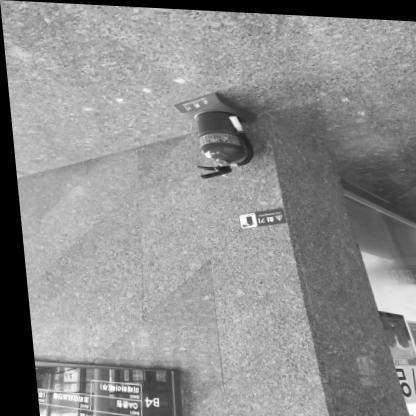FE: (171, 87, 253, 178)
